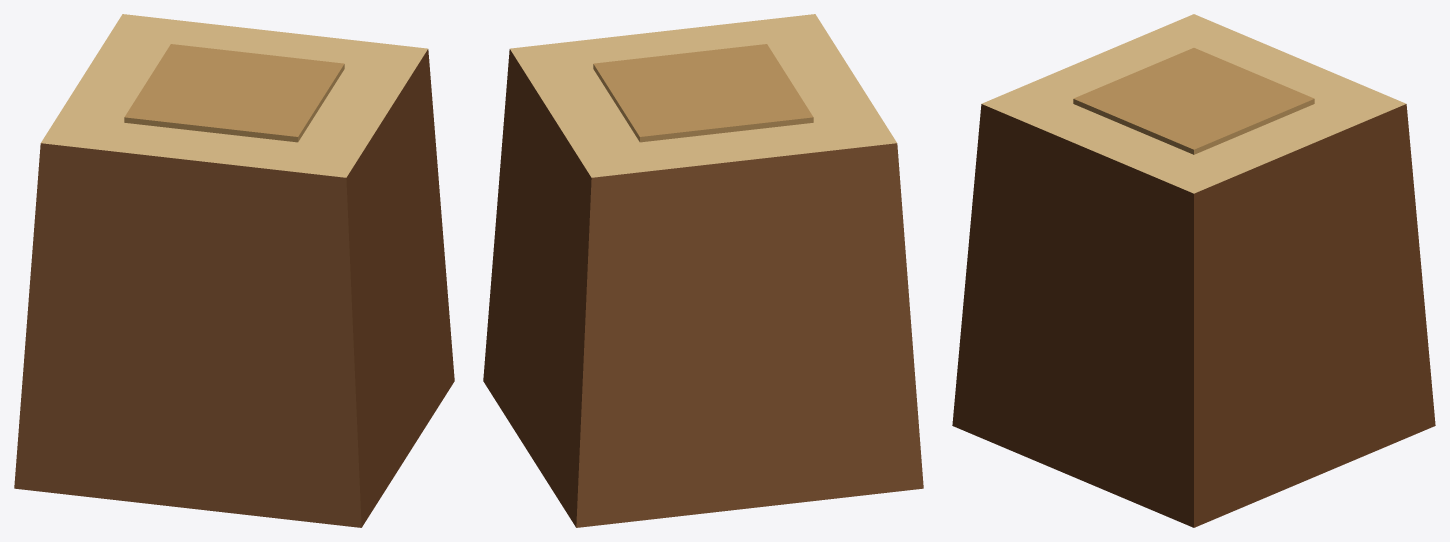
Rendered from stump_square.glb.
3 views of the same model, side by side, from view 1: azimuth 30°, elevation 25°; view 2: azimuth 150°, elevation 25°; view 3: azimuth 270°, elevation 25° (orthographic). The views are drawn at different scales.
Parts seen in each view (by area): view 1: stump_square; view 2: stump_square; view 3: stump_square.
Boxes of the visible parts, box(x1,y1,x2,y2) form: stump_square: box(14, 14, 454, 527); stump_square: box(483, 14, 923, 527); stump_square: box(952, 14, 1435, 527).
Size of the model in its own units: 0.34 by 0.254 by 0.34.
1 material, 1 textured.
